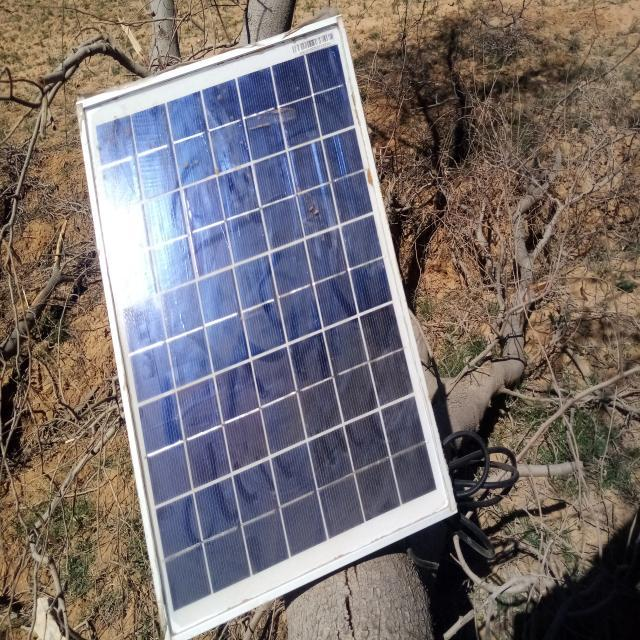faulty: (78, 18, 456, 640)
